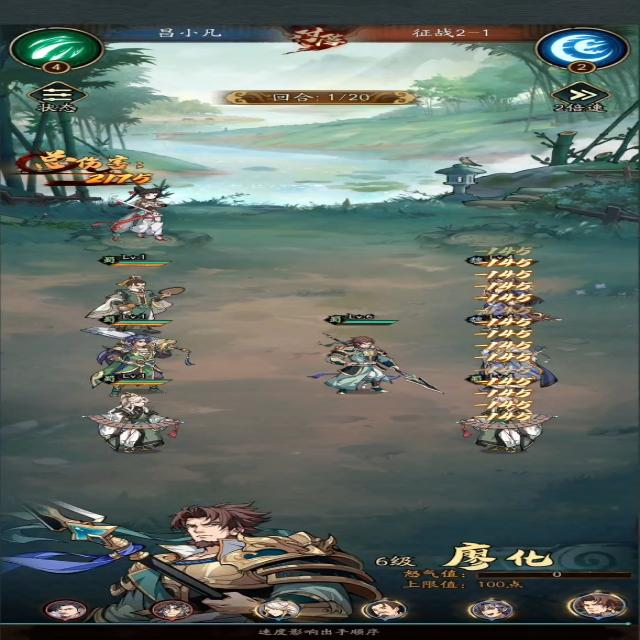hint-guide: (252, 626, 394, 640)
